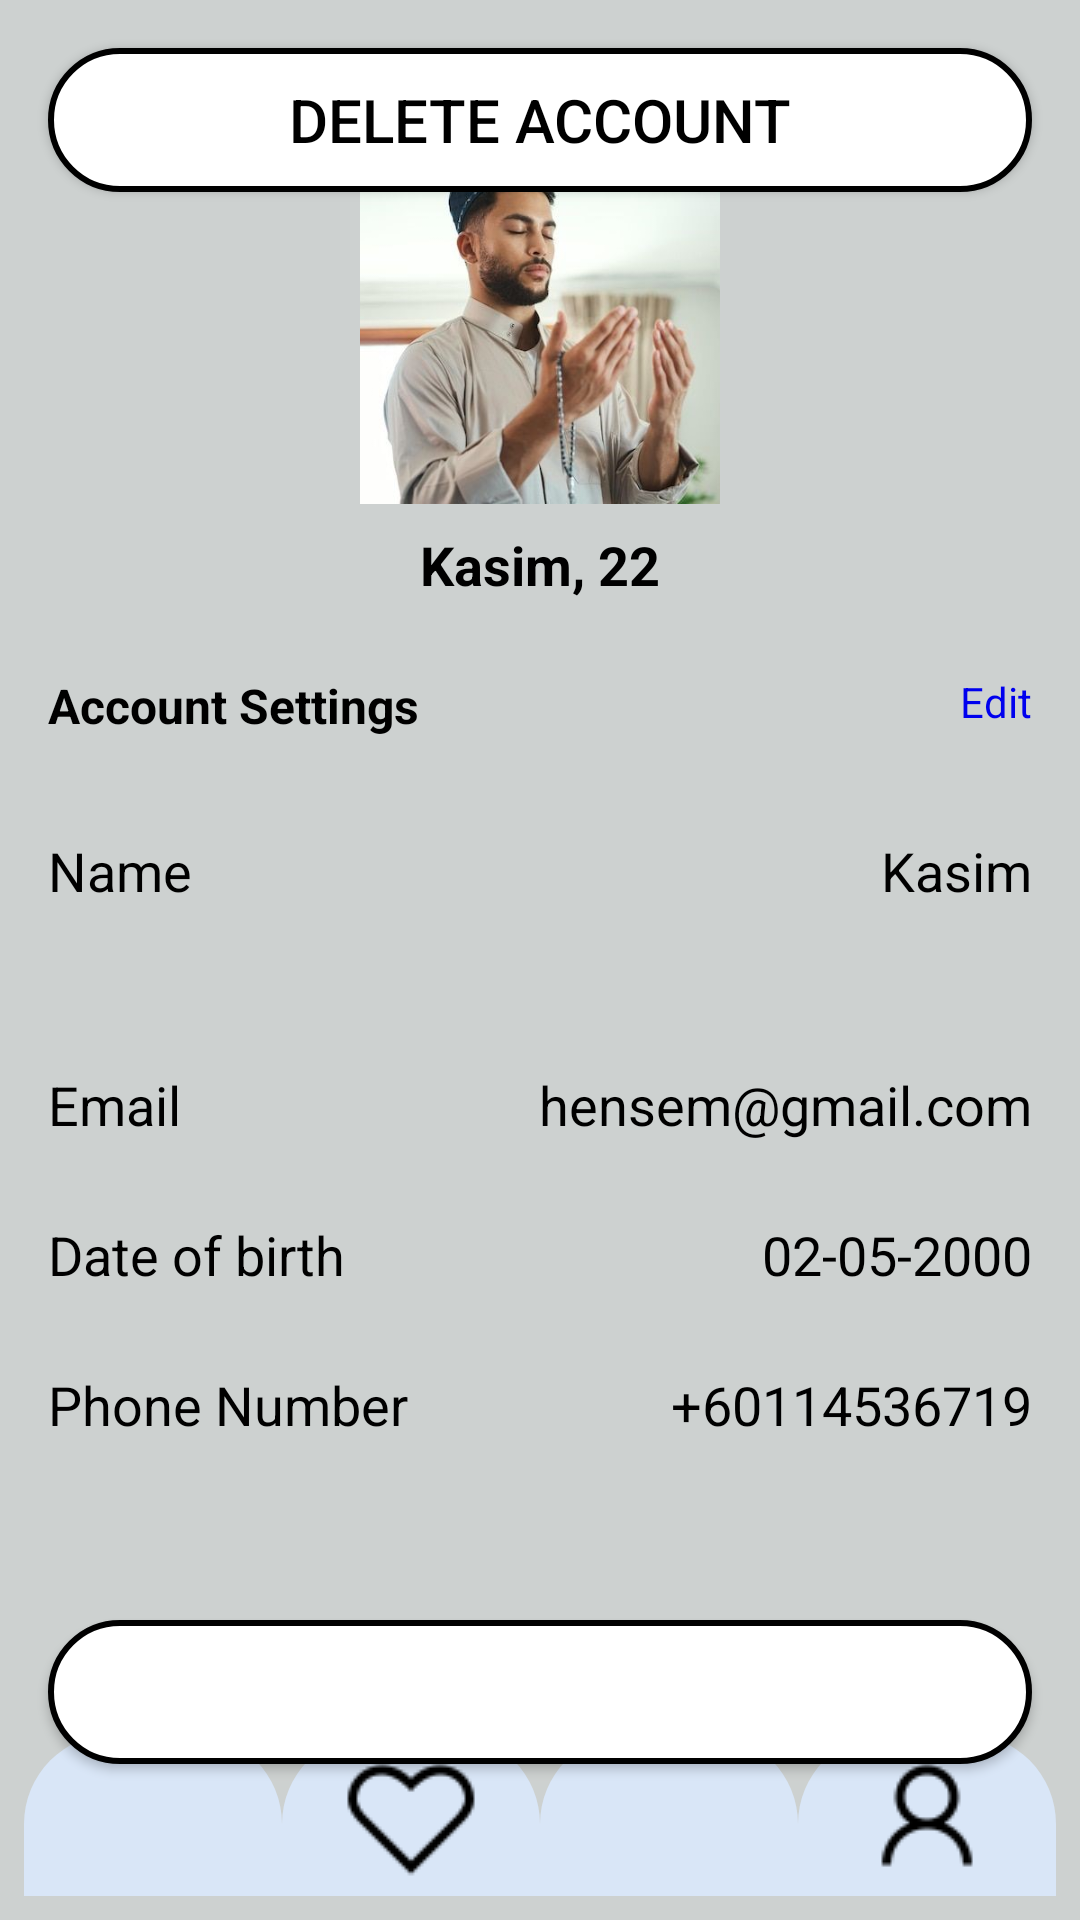

Where to tap for icons on this 1080×1920 app screen, as point (x, y):
like: point (411, 1815)
